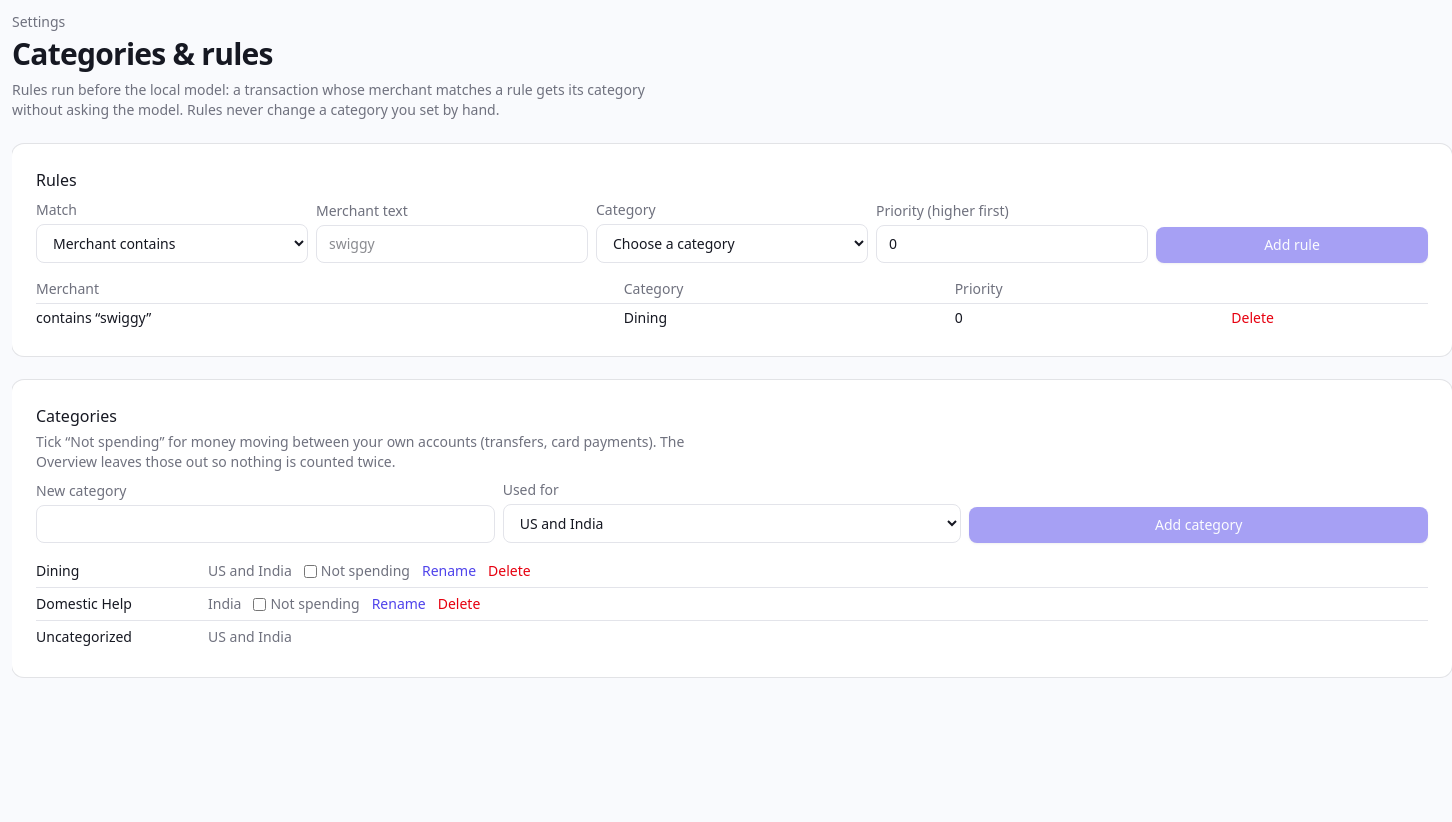
deleting a category in use explains why it cannot be deleted
The width and height of the screenshot is (1452, 822).
What coordinates should you click on to do the following:
click the button with aria-label "Delete Dining"
I would click on:
 (509, 571)
Its box is top-left (488, 561), bottom-right (531, 581).
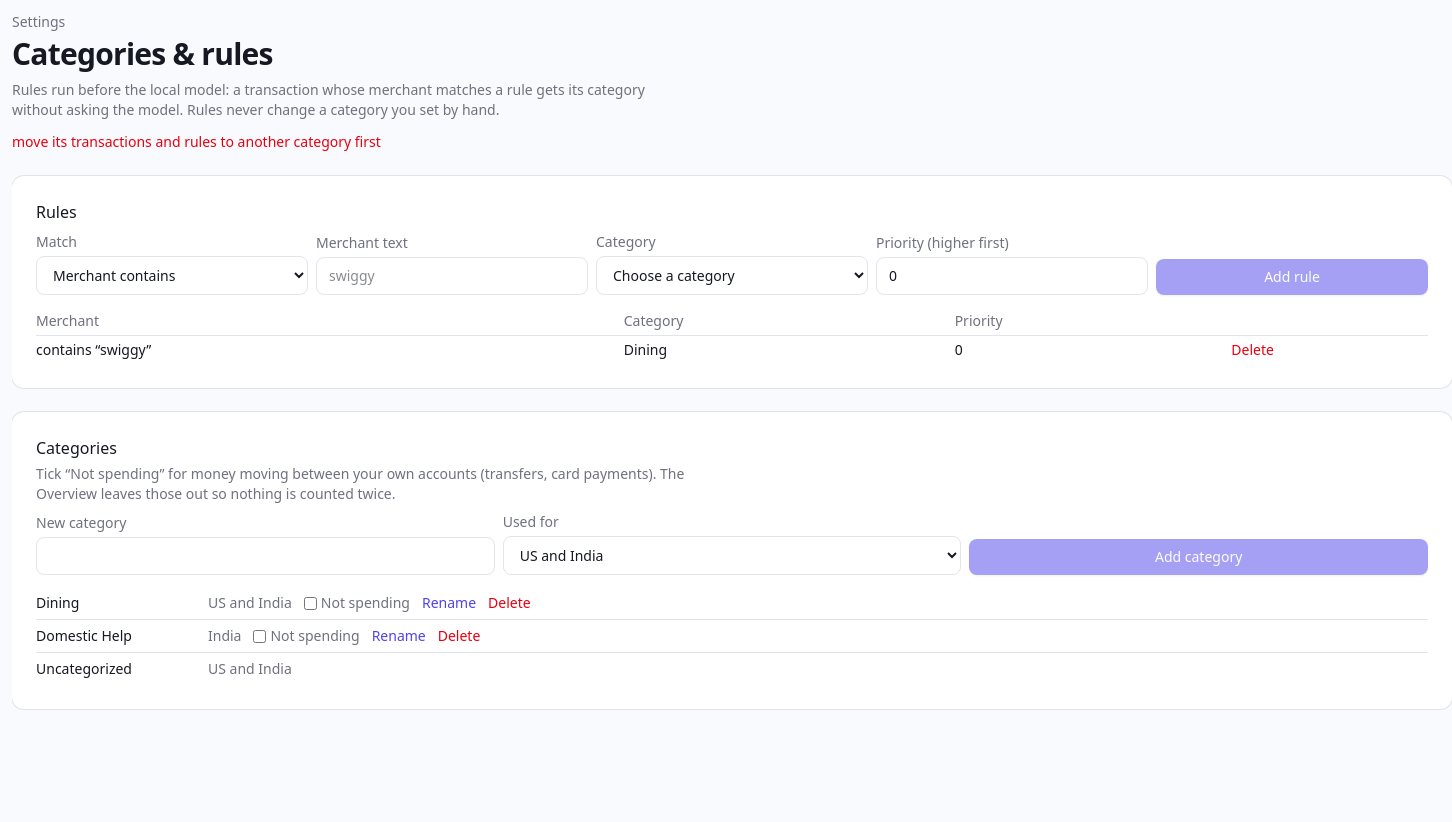
Result: the text "move its transactions and rules to another category first" is shown at top-left (12, 132), bottom-right (381, 151)
